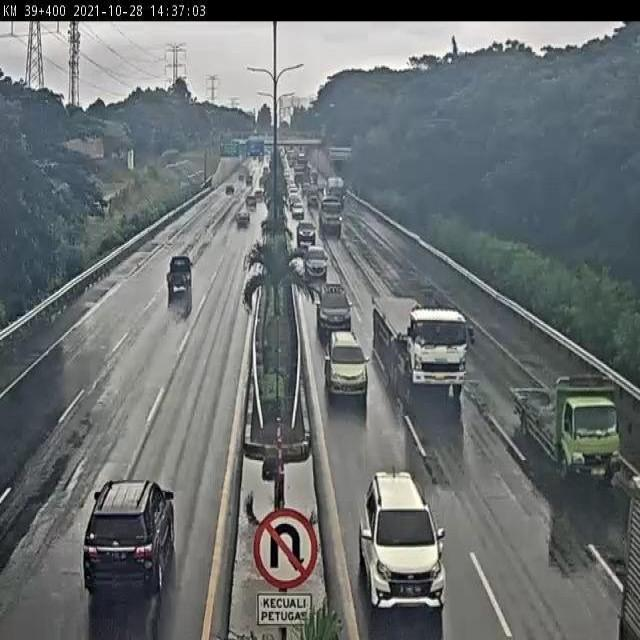big truck: (392, 285, 472, 407)
car: (381, 474, 450, 610), (70, 485, 182, 555), (326, 334, 366, 418), (315, 280, 354, 331), (160, 265, 190, 311), (304, 243, 327, 285)
small truck: (557, 393, 624, 483)
